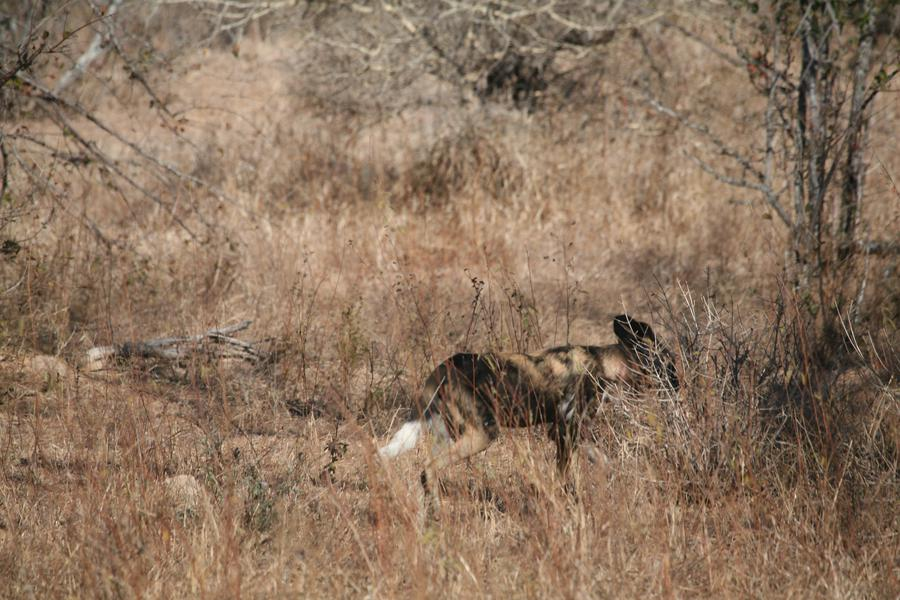wilddog: (394, 317, 671, 493)
